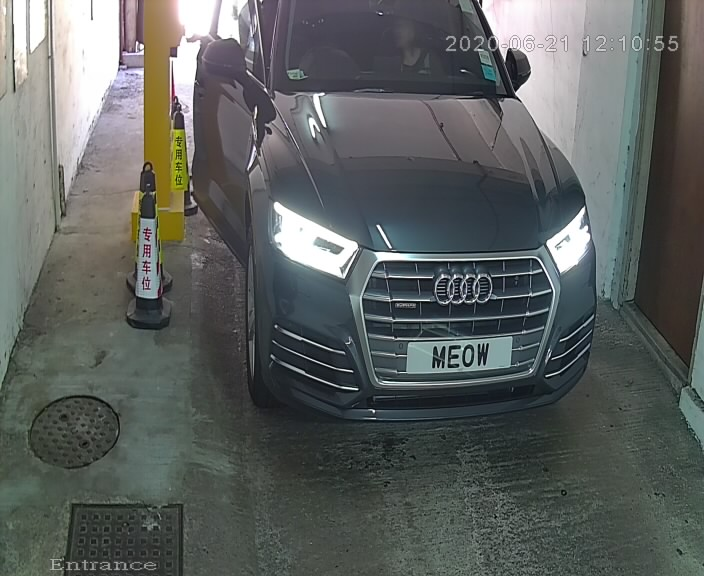privatecar: (181, 2, 617, 428)
